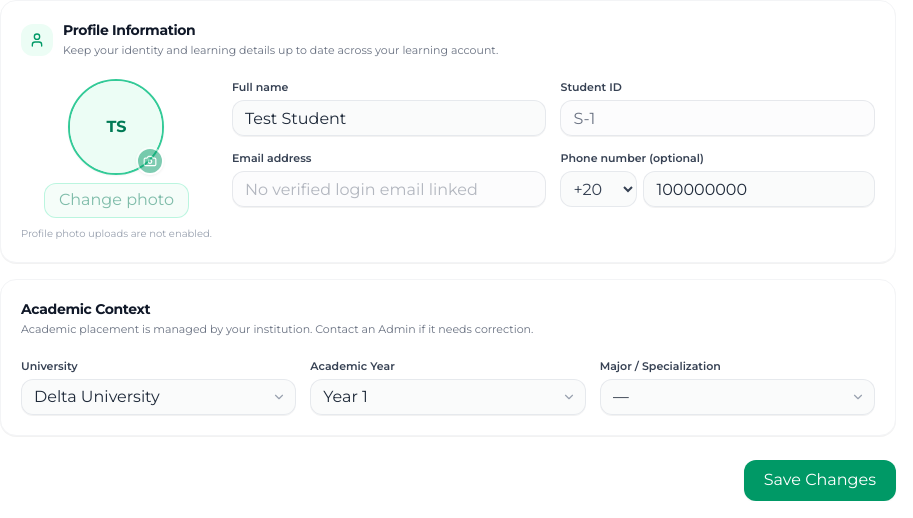
ProfileTab save feedback › shows the server error and never claims success when the save fails
Click the button "Save Changes".
click(820, 480)  # box x1=744 y1=460 x2=896 y2=501
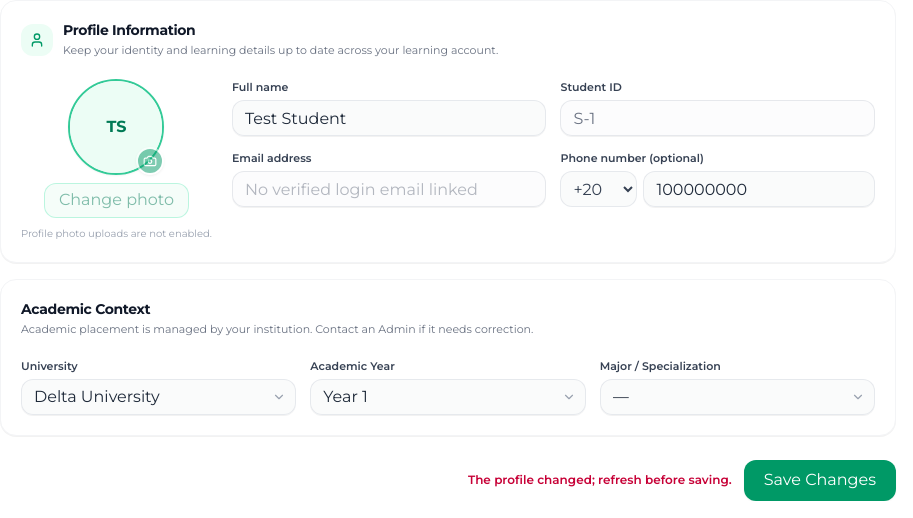
expect the message reads "The profile changed; refresh before saving.": met, box x1=468 y1=472 x2=732 y2=487
